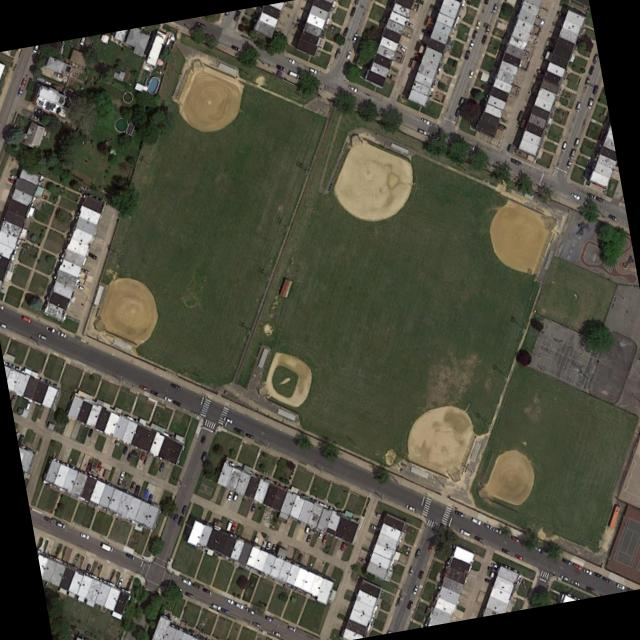ship: (142, 487, 150, 500)
small-vehicle: (100, 542, 112, 553), (509, 157, 521, 167), (458, 528, 471, 537), (224, 519, 233, 532), (198, 450, 207, 462), (176, 514, 184, 527), (132, 484, 140, 497), (396, 43, 406, 53), (44, 325, 55, 334), (232, 426, 243, 435), (55, 330, 66, 339), (169, 382, 180, 391), (581, 567, 592, 576), (470, 517, 481, 526), (568, 148, 576, 160), (573, 101, 581, 113), (586, 97, 594, 109), (462, 49, 470, 61), (248, 502, 256, 514), (23, 399, 31, 411), (348, 6, 356, 18), (333, 48, 341, 60), (560, 557, 570, 566), (515, 111, 524, 121), (223, 596, 233, 605), (491, 526, 501, 535), (191, 581, 201, 590), (201, 586, 211, 595), (404, 503, 414, 512), (590, 84, 598, 95), (564, 158, 572, 169), (594, 196, 605, 204), (162, 395, 173, 403), (32, 107, 43, 115), (350, 32, 358, 43), (614, 582, 625, 590), (405, 599, 413, 610), (488, 568, 496, 579), (209, 602, 220, 610), (251, 621, 262, 629), (115, 577, 123, 588), (124, 552, 135, 560), (472, 535, 483, 543), (138, 451, 146, 462), (183, 591, 194, 599), (591, 53, 598, 65), (180, 503, 187, 515), (157, 461, 164, 473), (229, 522, 236, 534), (244, 431, 253, 440), (570, 192, 579, 201), (87, 252, 96, 261), (559, 573, 568, 582), (36, 333, 46, 341), (21, 316, 31, 324), (222, 416, 232, 424), (171, 399, 181, 407), (149, 389, 159, 397), (53, 71, 63, 79), (465, 143, 475, 151), (416, 128, 426, 136), (347, 85, 357, 93), (285, 57, 295, 65), (274, 64, 284, 72), (230, 44, 240, 52), (592, 571, 602, 579), (416, 570, 424, 580), (601, 576, 611, 584), (570, 579, 580, 587), (531, 544, 541, 552), (286, 625, 296, 633), (219, 607, 229, 615), (233, 602, 243, 610), (244, 607, 254, 615), (270, 630, 280, 638), (482, 522, 492, 530), (181, 578, 191, 586), (85, 428, 93, 438), (453, 510, 463, 518), (338, 542, 346, 552), (560, 141, 567, 152), (572, 137, 579, 148), (583, 76, 590, 87), (586, 65, 593, 76), (534, 18, 545, 25), (470, 29, 477, 40), (225, 490, 232, 501), (467, 39, 474, 50), (457, 96, 464, 107), (453, 107, 460, 118), (411, 584, 418, 595), (407, 565, 414, 576), (396, 595, 403, 606), (571, 563, 582, 570), (95, 460, 102, 471), (146, 493, 153, 504), (413, 548, 420, 559), (320, 534, 327, 545), (586, 192, 595, 200), (138, 384, 147, 392), (80, 267, 89, 275), (420, 117, 429, 125), (344, 50, 352, 59), (308, 67, 317, 75), (483, 577, 492, 585), (585, 585, 594, 593), (514, 553, 523, 561), (496, 123, 505, 131), (264, 615, 273, 623), (79, 532, 88, 540), (43, 516, 52, 524), (55, 521, 64, 529), (357, 556, 366, 564), (491, 3, 498, 13), (474, 19, 481, 29), (467, 69, 474, 79), (30, 114, 40, 121), (341, 27, 348, 37), (479, 34, 486, 44), (128, 480, 135, 490), (304, 533, 311, 543), (295, 552, 302, 562), (484, 23, 490, 34), (510, 535, 518, 543), (370, 524, 378, 532), (199, 435, 206, 444), (231, 492, 238, 501), (608, 214, 617, 221), (16, 87, 23, 96), (405, 22, 414, 29), (171, 513, 178, 522), (115, 478, 122, 487), (269, 543, 276, 552), (20, 77, 26, 87), (118, 470, 124, 480), (121, 445, 127, 455), (125, 452, 131, 462), (264, 541, 270, 551), (75, 284, 83, 291), (6, 177, 14, 184), (501, 548, 510, 554), (84, 563, 90, 572), (176, 587, 182, 596), (374, 512, 383, 518), (317, 530, 323, 539), (304, 524, 310, 533), (0, 322, 7, 329), (490, 562, 498, 568), (482, 0, 488, 6), (199, 23, 205, 29), (10, 174, 16, 179), (353, 0, 358, 5), (0, 305, 3, 310)
